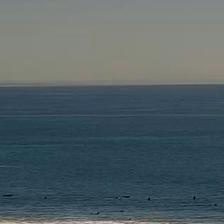surfer: (208, 203, 218, 207), (3, 194, 13, 197), (90, 211, 100, 214), (116, 209, 125, 212), (121, 196, 131, 198), (126, 218, 132, 221), (192, 196, 195, 200), (44, 196, 47, 199), (148, 197, 151, 200), (0, 194, 1, 198)
